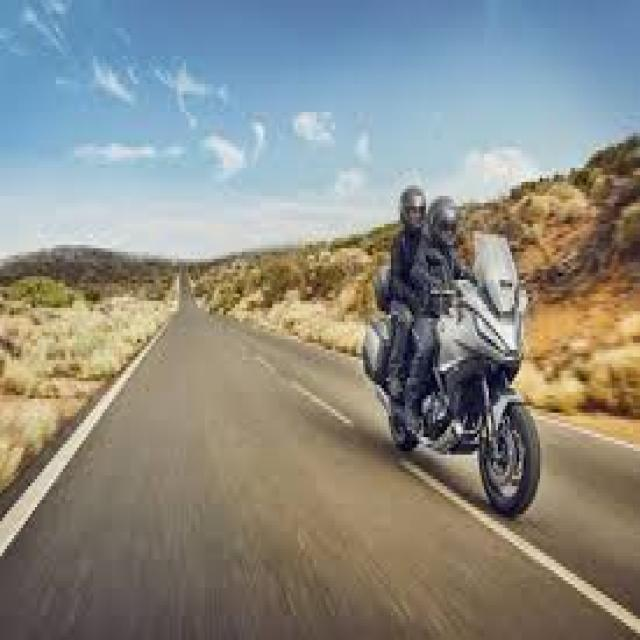MOTORCYCLE: (366, 263, 542, 527)
